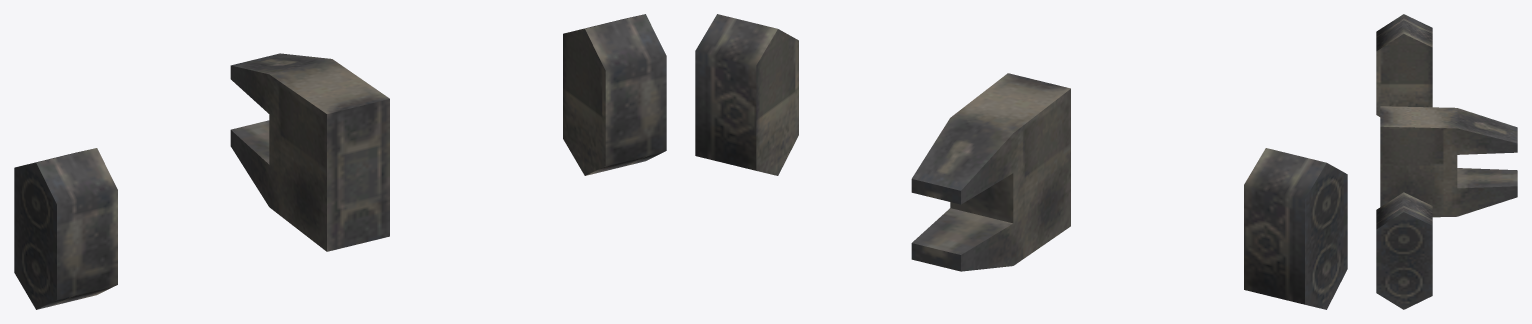
3 views of the same model, side by side, from view 1: azimuth 30°, elevation 25°; view 2: azimuth 150°, elevation 25°; view 3: azimuth 270°, elevation 25° (orthographic). The views are drawn at different scales.
Parts seen in each view (by area): view 1: set_0_group_0; view 2: set_0_group_0; view 3: set_0_group_0.
Part boxes in pixels (bbox=[...]): set_0_group_0: bbox=[14, 14, 666, 309]; set_0_group_0: bbox=[695, 14, 1347, 309]; set_0_group_0: bbox=[1376, 14, 1517, 309].
Size of the model in its own units: 0.4957 by 0.1144 by 0.1499.
1 material, 1 textured.
